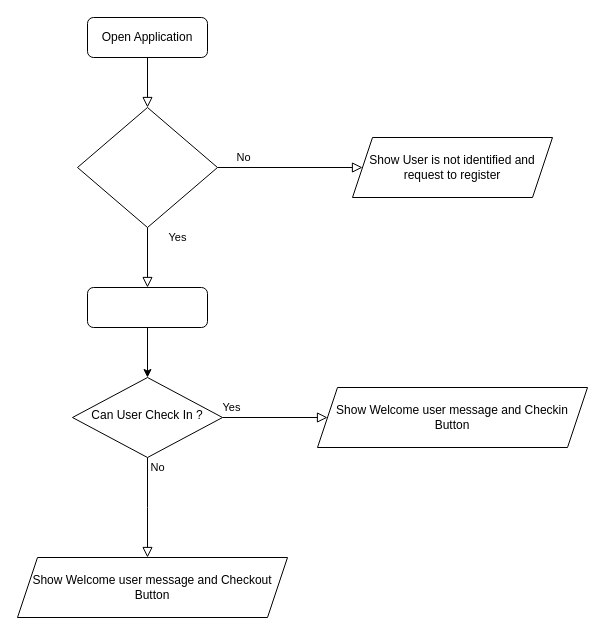
This 605x635 diagram has some shape labels left out. The centre of each missing label's shape, as x and y in pixels:
"Is User a returning (registered) user?" goes at (x=147, y=167).
"Load user's attendance entries" goes at (x=147, y=307).
